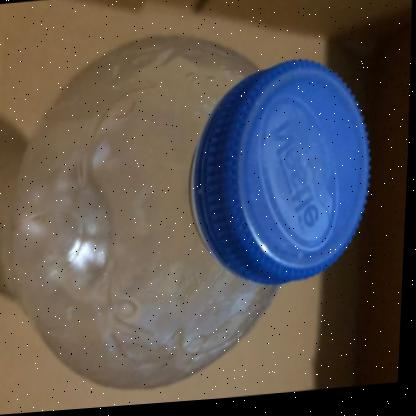bottle cap: (18, 17, 398, 403)
